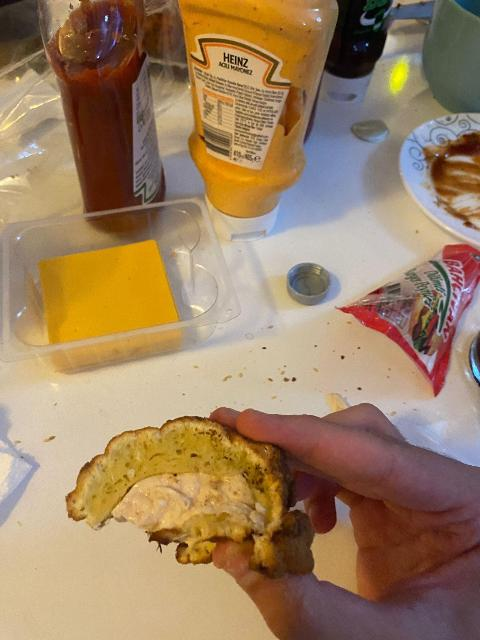Organik: (63, 423, 281, 544), (47, 228, 173, 353)
Plastik: (344, 244, 480, 359), (281, 262, 347, 306), (350, 121, 393, 146)
